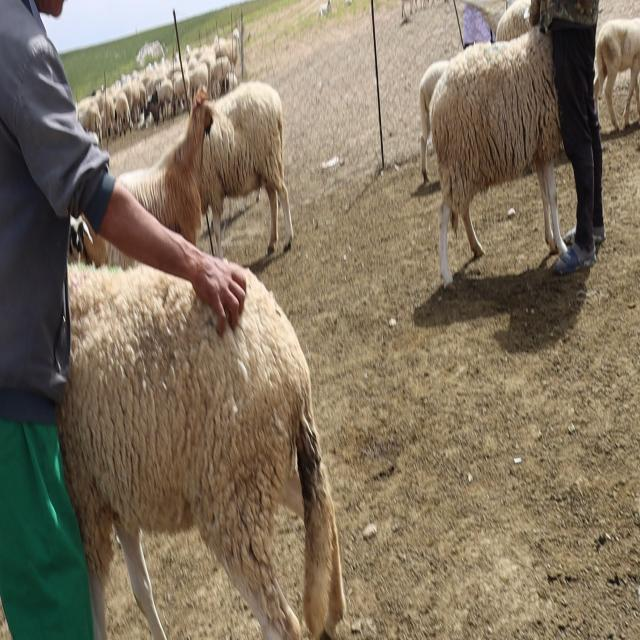Score_1: (57, 266, 346, 639)
